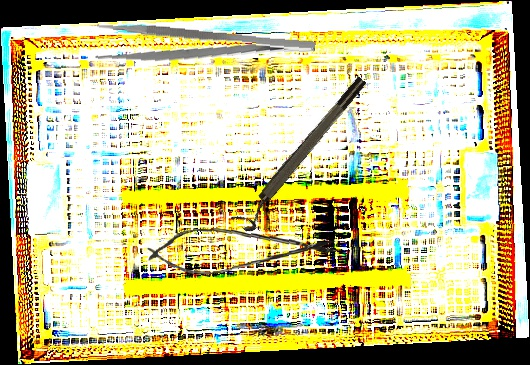Dressing Forceps: (94, 20, 317, 76)
Fixation Ring: (230, 73, 376, 236)
Micro Scissor: (145, 222, 338, 277)
